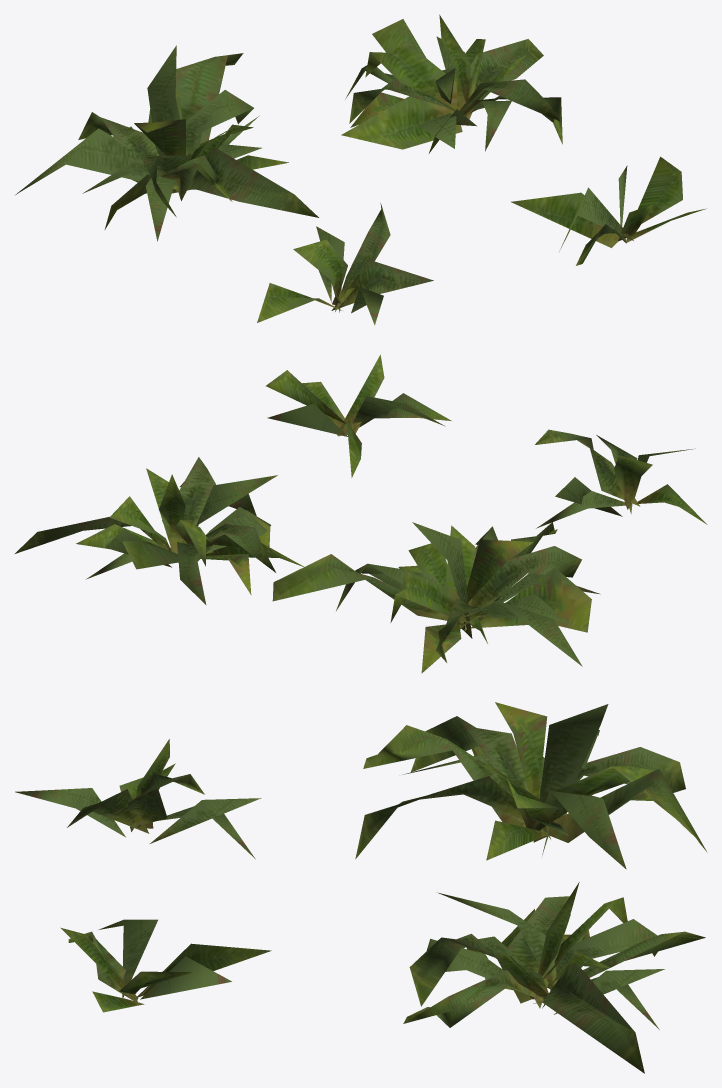
File: fern_02.glb
3 views of the same model, one above another, from view 1: azimuth 30°, elevation 25°; view 2: azimuth 150°, elevation 25°; view 3: azimuth 270°, elevation 25° (orthographic). The views are drawn at different scales.
Visible parts, largest first — view 1: fern_02_b; view 2: fern_02_b; view 3: fern_02_b.
Part boxes in pixels (x1,y1,x2,y2): fern_02_b: (15,14,706,325); fern_02_b: (15,354,707,673); fern_02_b: (15,702,706,1073).
Bounding box in the file's own units: 1.93 × 0.4229 × 1.72.
Materials: 1 (1 with a texture image).
